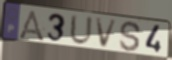3: (46, 12, 69, 44)
4: (143, 23, 165, 57)
A: (17, 9, 47, 43)
S: (118, 21, 143, 54)
U: (69, 13, 94, 48)
V: (94, 17, 119, 50)
